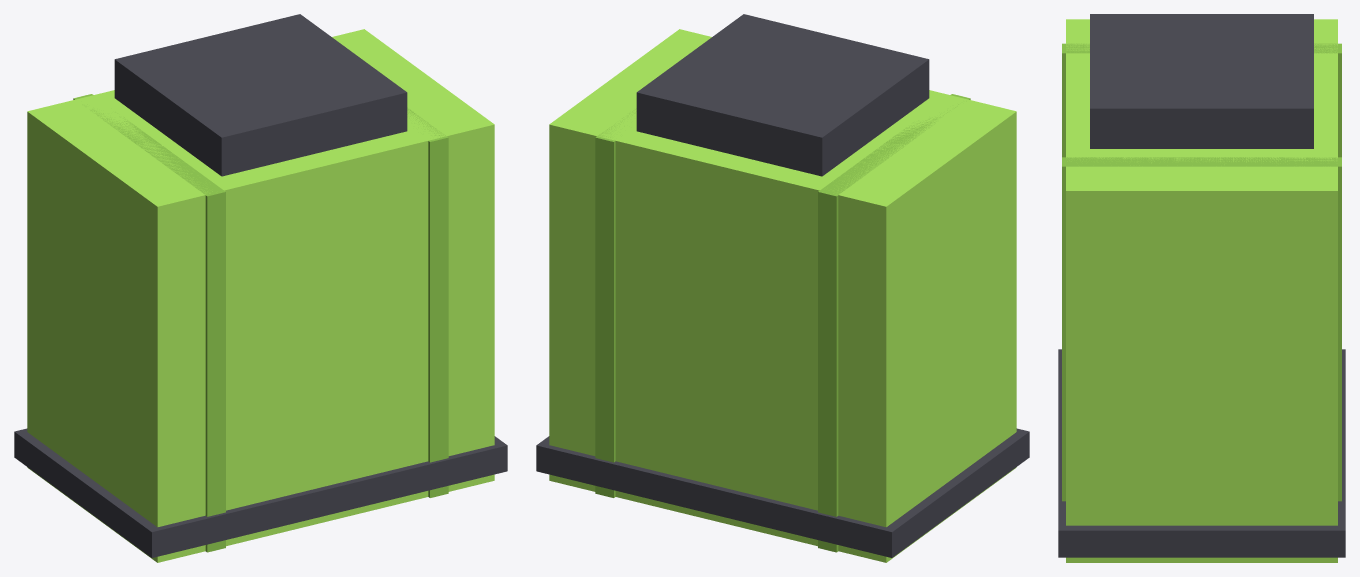
The model's file is goleiro_tronco.glb.
3 views of the same model, side by side, from view 1: azimuth 30°, elevation 25°; view 2: azimuth 150°, elevation 25°; view 3: azimuth 270°, elevation 25° (orthographic). The views are drawn at different scales.
Visible parts, largest first — view 1: goleiro_tronco; view 2: goleiro_tronco; view 3: goleiro_tronco.
Part boxes in pixels (x1=…): goleiro_tronco: x1=14, y1=14, x2=507, y2=562; goleiro_tronco: x1=536, y1=14, x2=1029, y2=562; goleiro_tronco: x1=1058, y1=14, x2=1345, y2=562.
Bounding box in the file's own units: 0.575 × 0.615 × 0.385.
